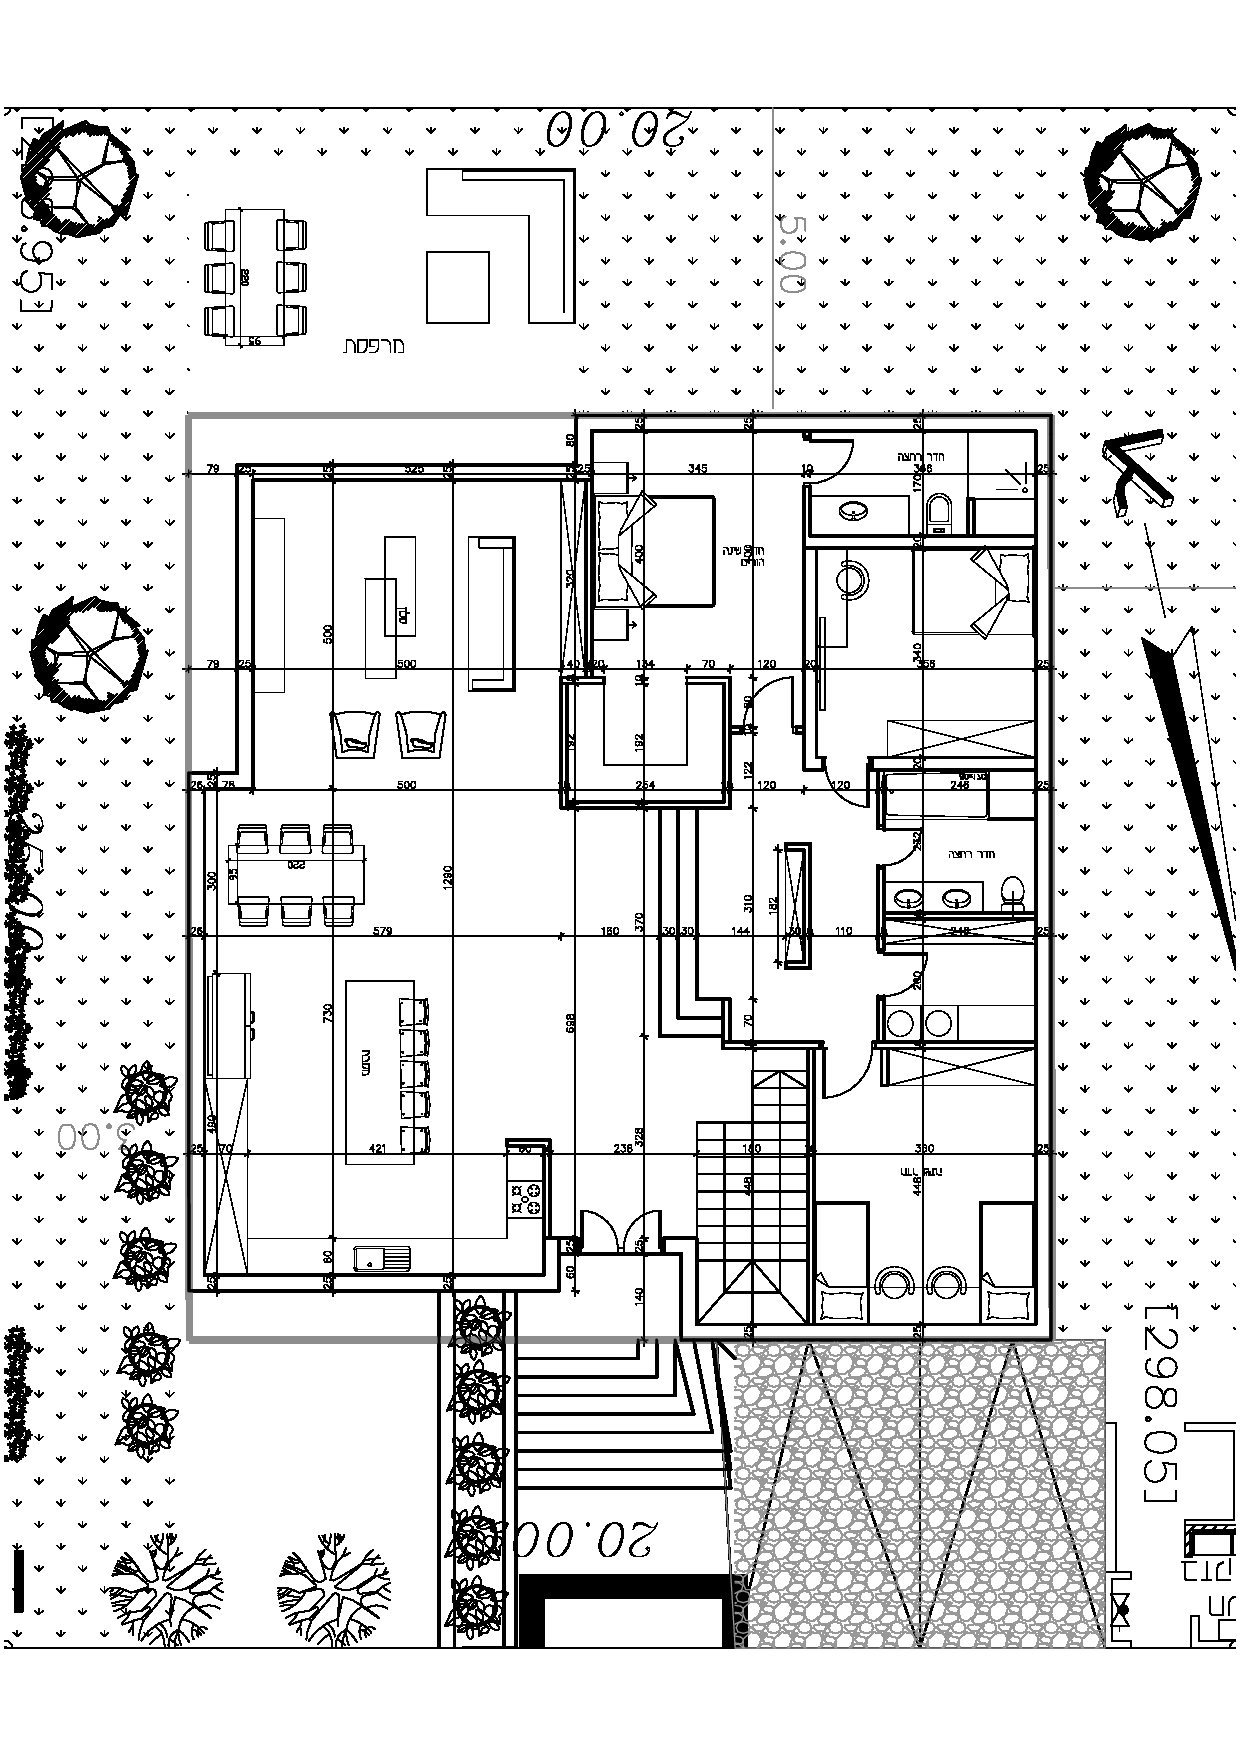door: (560, 1194, 676, 1270), (735, 666, 803, 743), (790, 428, 858, 506), (819, 747, 884, 825), (816, 1027, 882, 1104), (870, 812, 935, 890), (870, 931, 935, 1009)
window: (309, 454, 467, 497)
